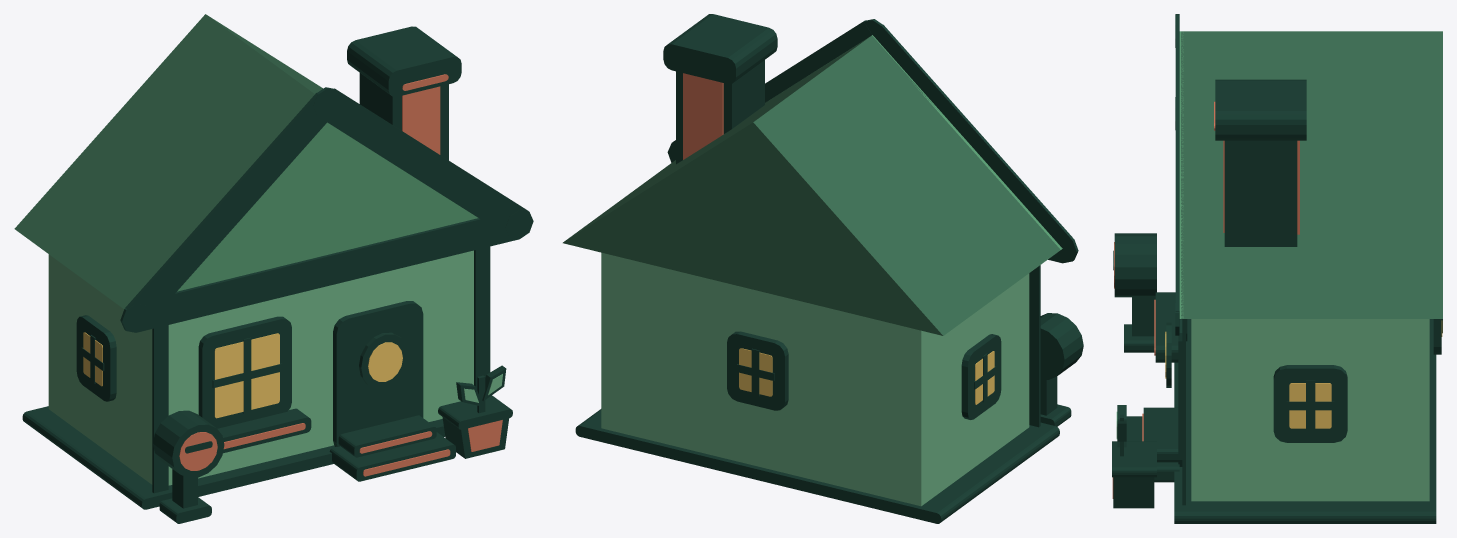
The picture shows the model from 3 angles, left to right: view 1: azimuth 30°, elevation 25°; view 2: azimuth 150°, elevation 25°; view 3: azimuth 270°, elevation 25°; orthographic projection. The views are drawn at different scales.
Parts seen in each view (by area): view 1: Rent Free house; view 2: Rent Free house; view 3: Rent Free house.
Boxes of the visible parts, x1,y1,x2,y2 form: Rent Free house: (14, 14, 533, 523); Rent Free house: (563, 14, 1083, 523); Rent Free house: (1112, 14, 1442, 523).
Size of the model in its own units: 1.13 by 0.9843 by 0.7143.
